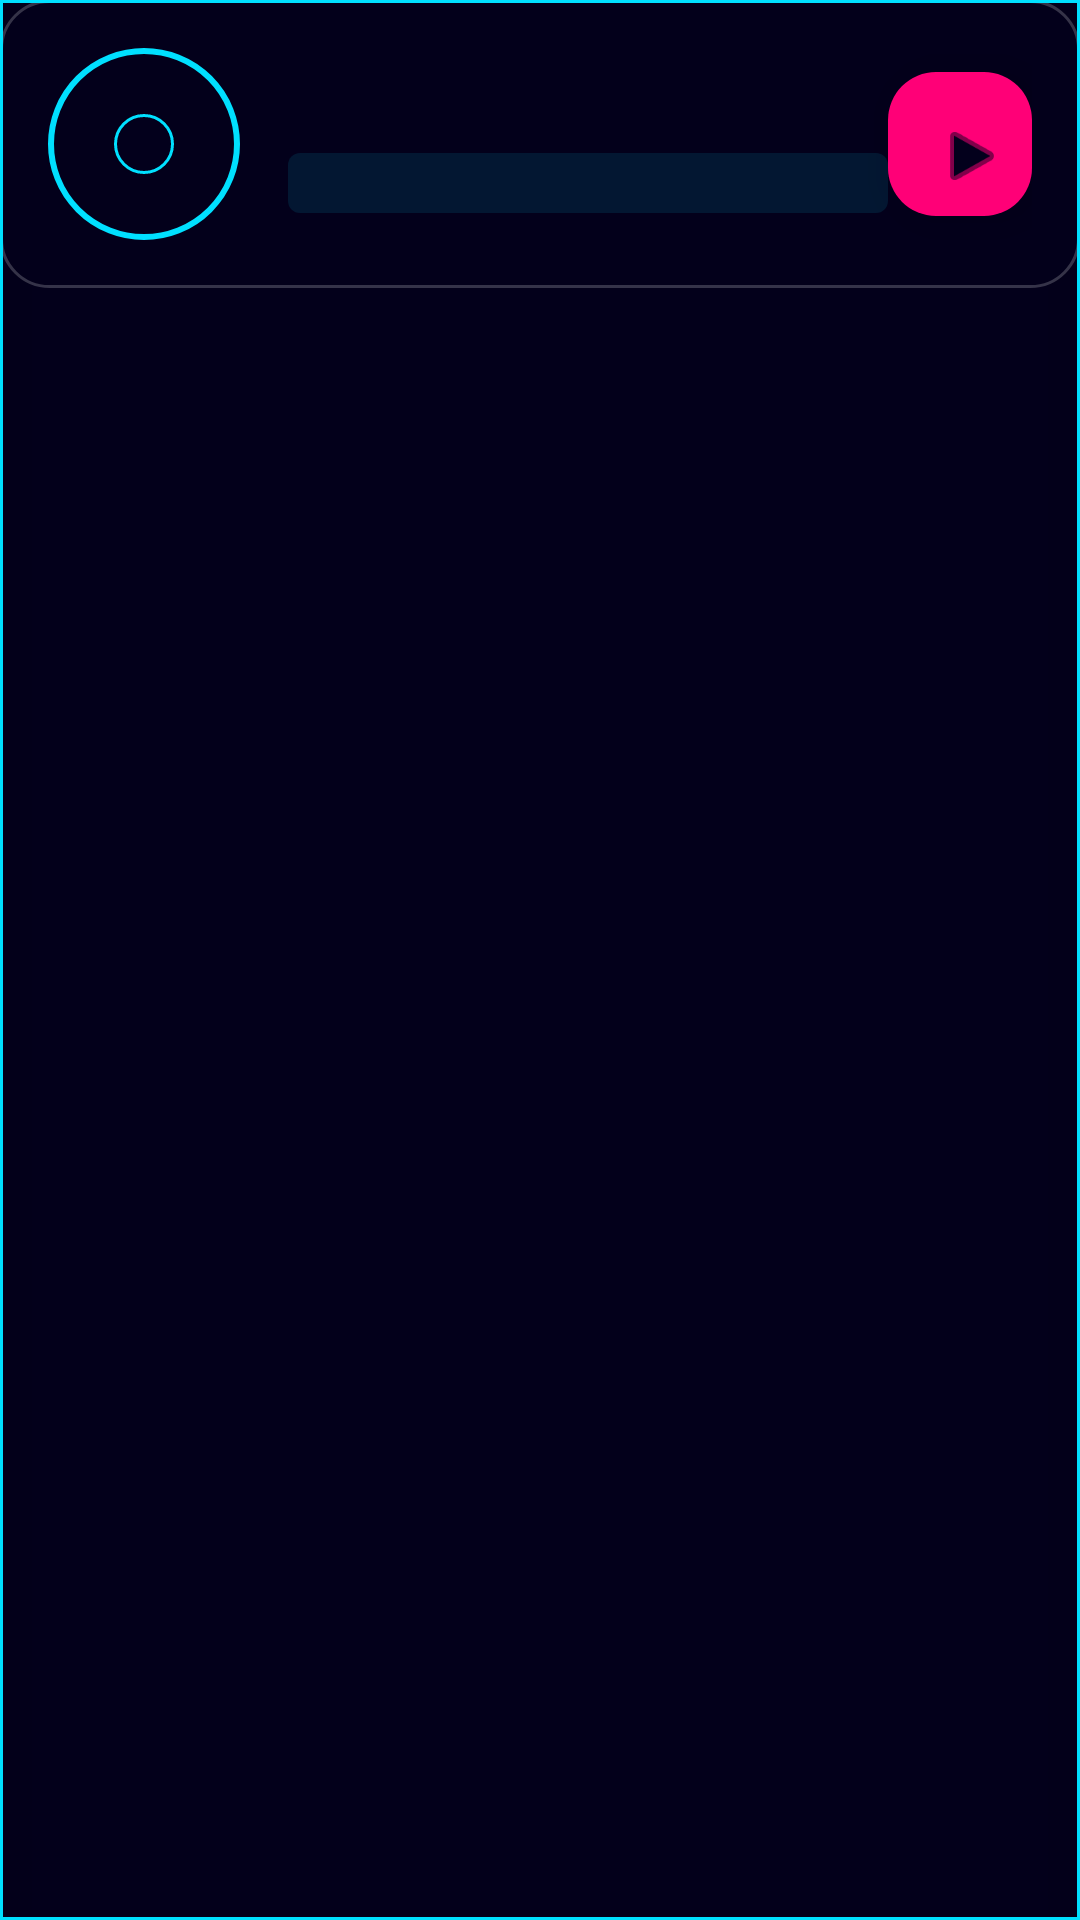

Where to tap for icons on this 1080w x 1920h app screen, as (x=x, y=y):
play: (x=960, y=144)
